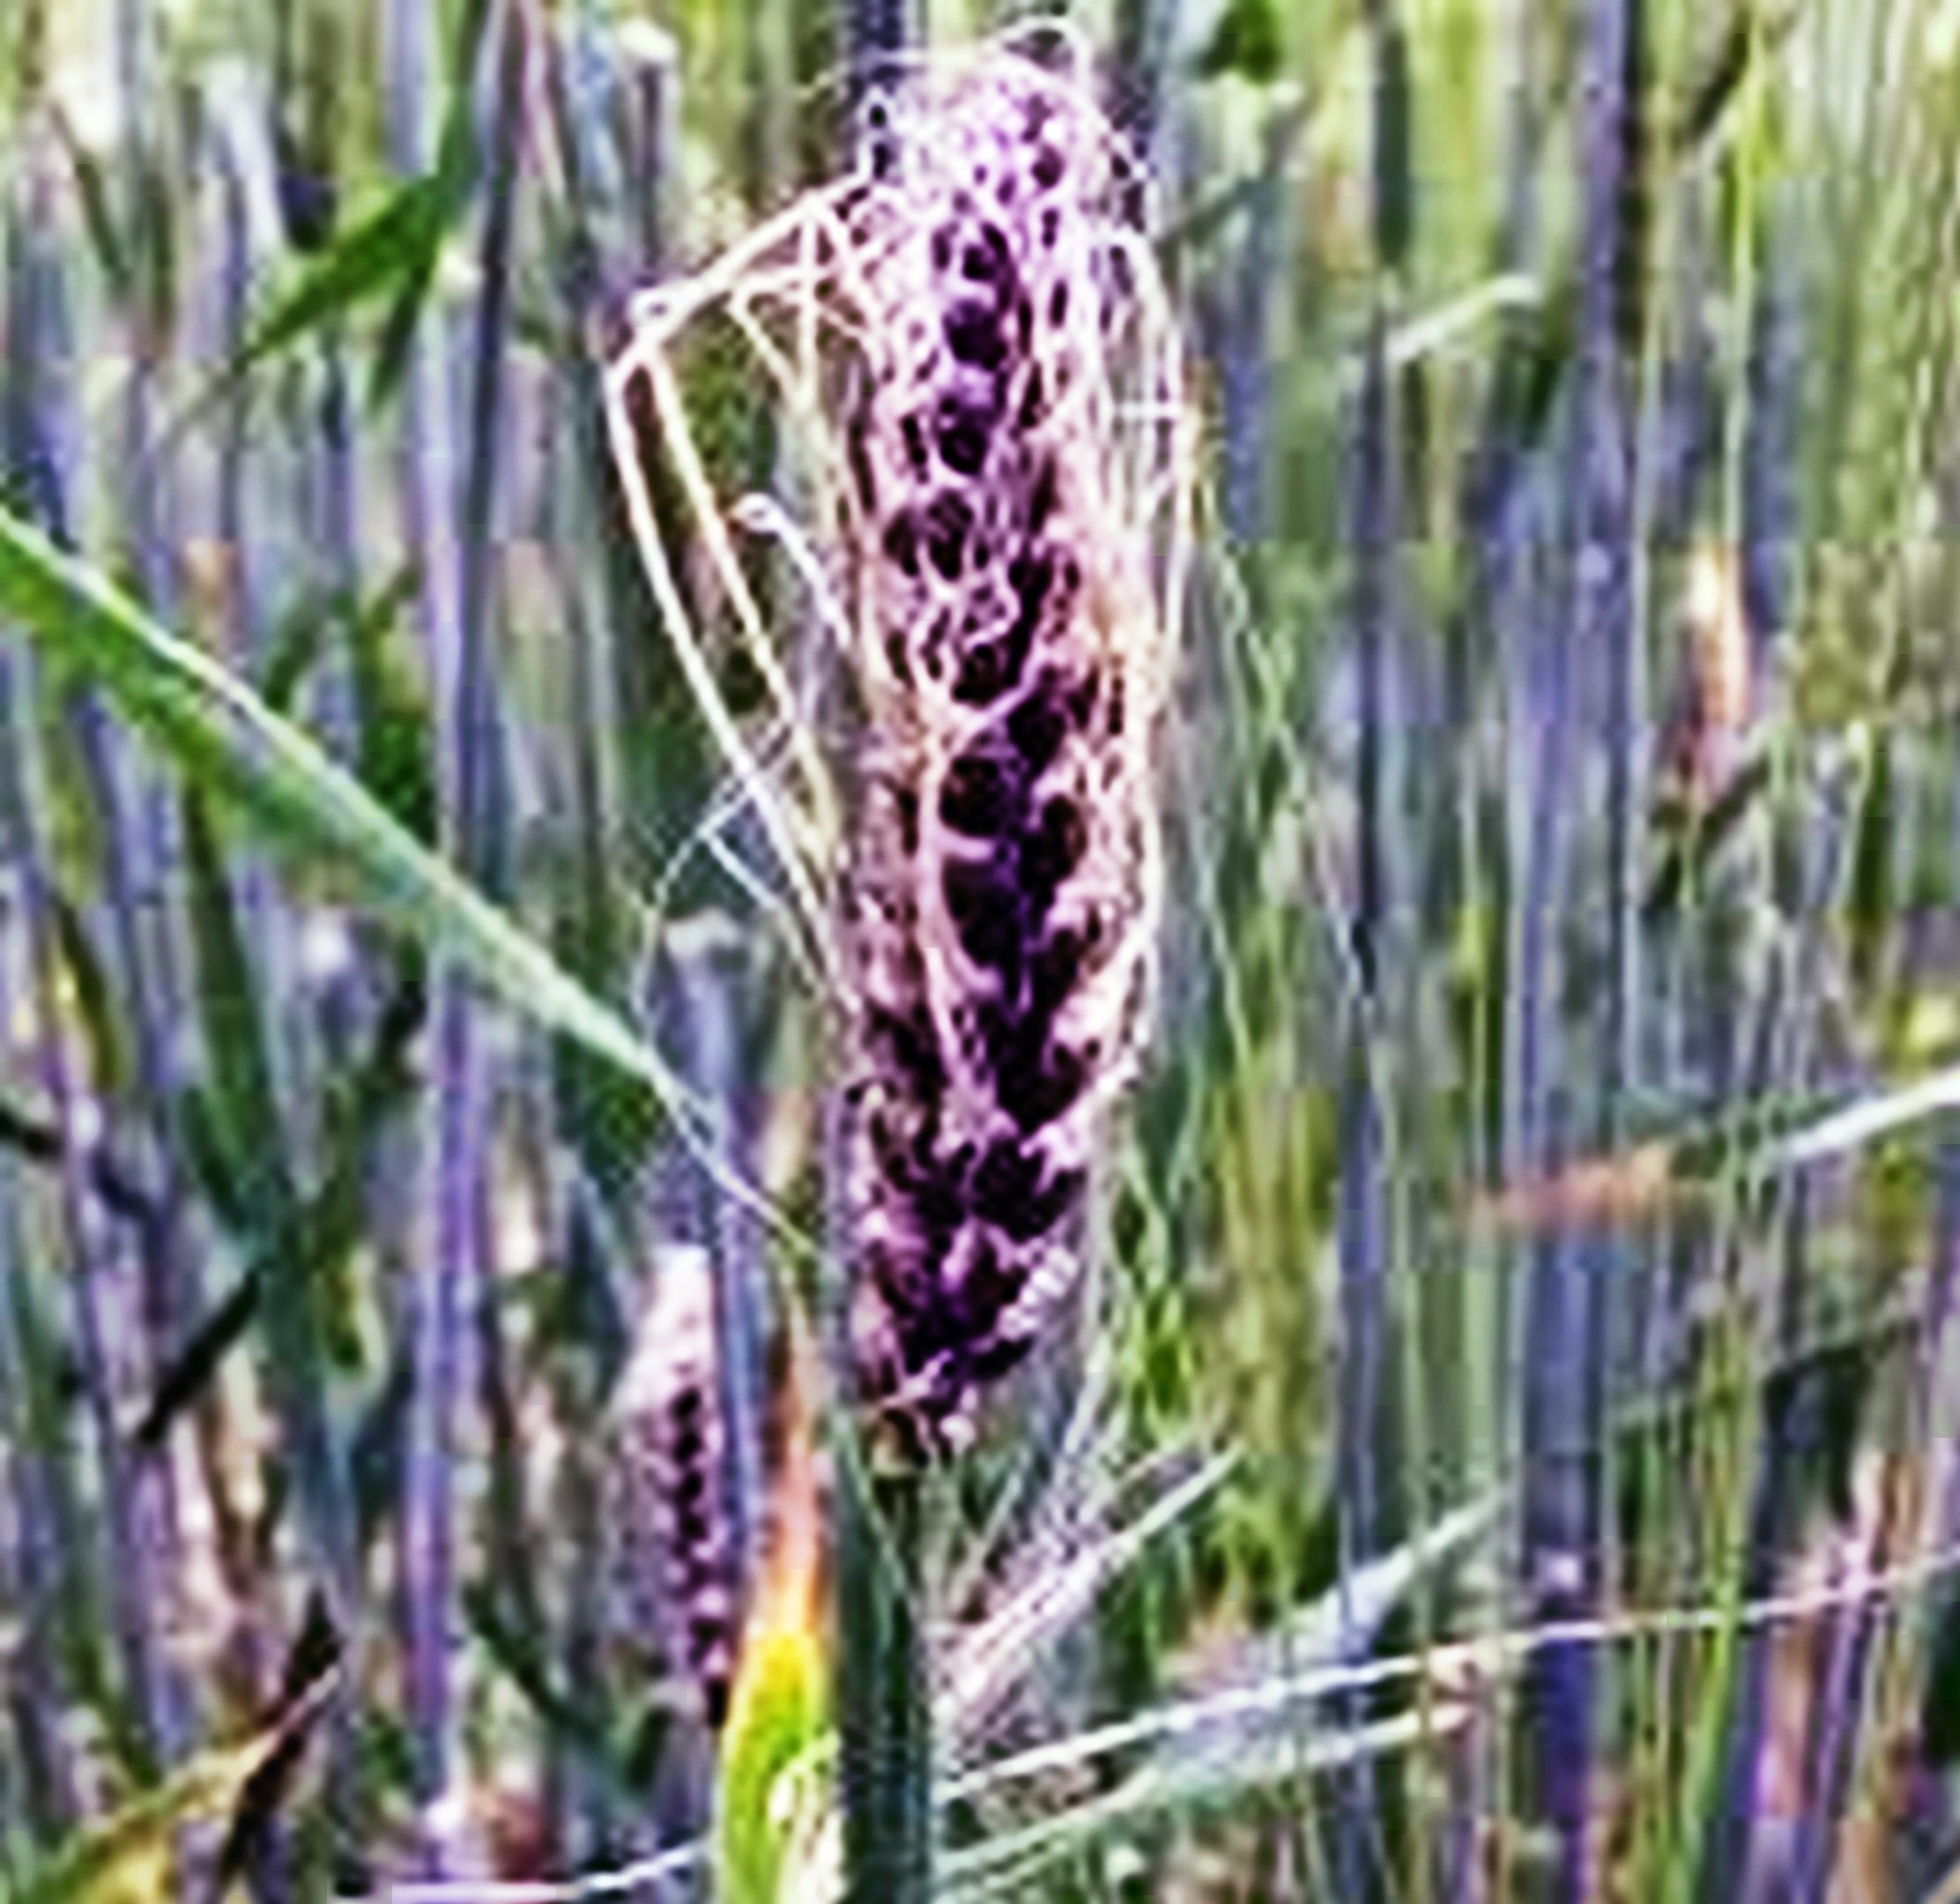Wheat Loose Smut: (784, 82, 1141, 1404)
